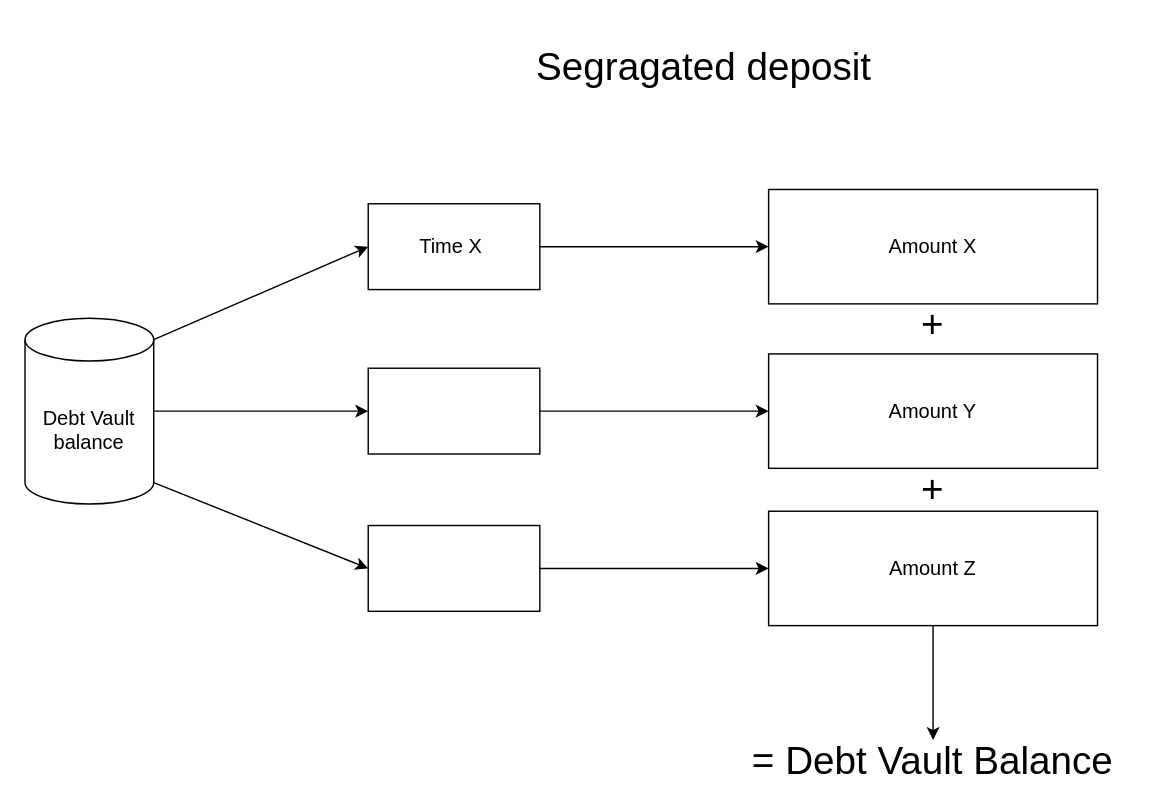
Image size: 1151x808. Some labels were removed from this diagram. The box of each missing label's shape, as (x1, y1, x2, y2) in pixels:
Time Y: (367, 367, 540, 454)
Time Z: (367, 524, 540, 611)
